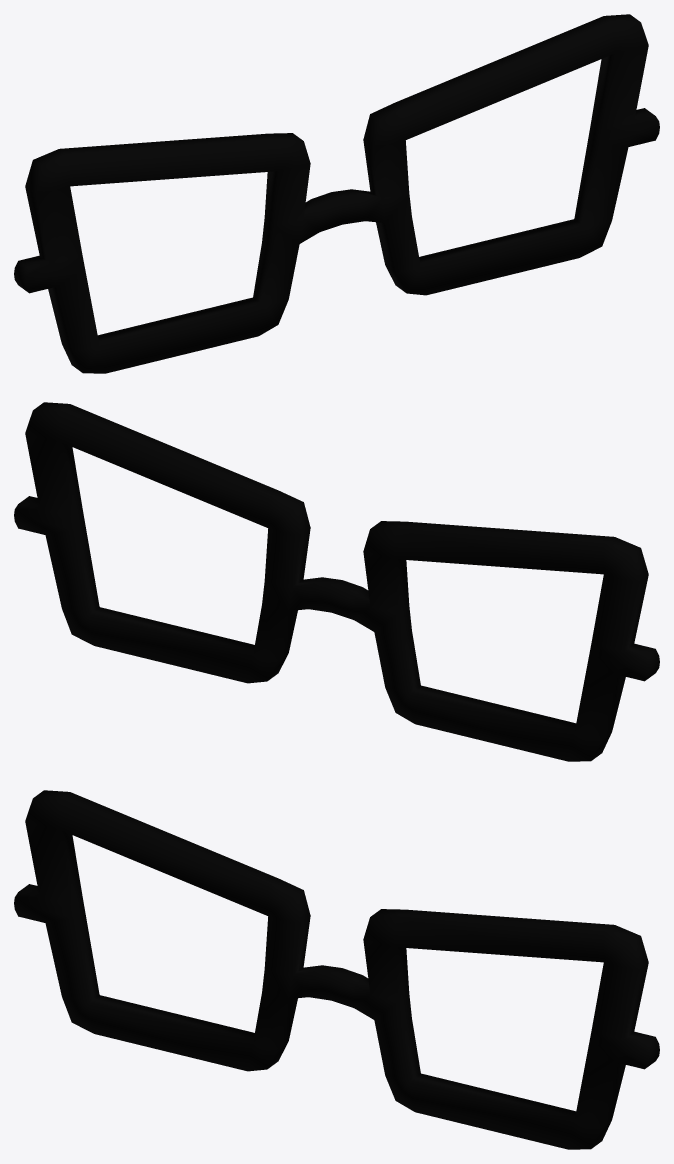
The model's file is Acce_glass_Box.FBX.
3 views of the same model, one above another, from view 1: azimuth 30°, elevation 25°; view 2: azimuth 150°, elevation 25°; view 3: azimuth 330°, elevation 25° (orthographic).
Parts seen in each view (by area): view 1: glass_Box; view 2: glass_Box; view 3: glass_Box.
Part boxes in pixels (<box>): glass_Box: <box>14,14,659,373</box>; glass_Box: <box>14,402,659,761</box>; glass_Box: <box>14,790,659,1149</box>.
Bounding box in the file's own units: 21.43 × 7.27 × 0.6511.
Materials: 1 (1 with a texture image).
